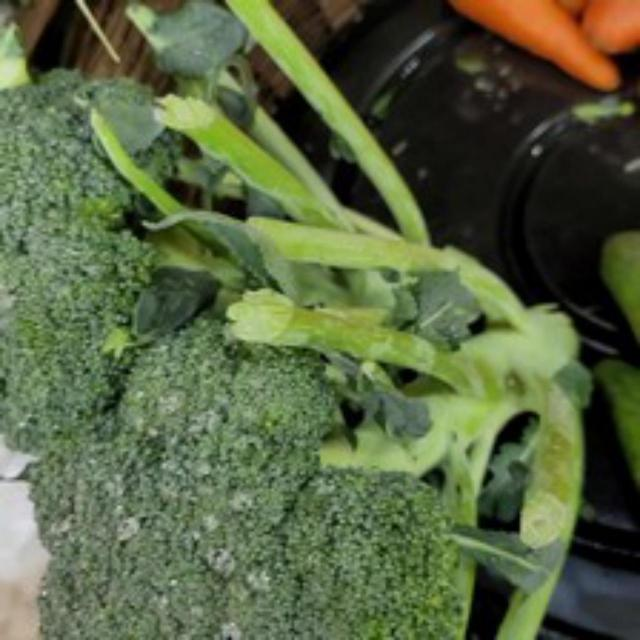broccoli: (14, 208, 588, 637)
